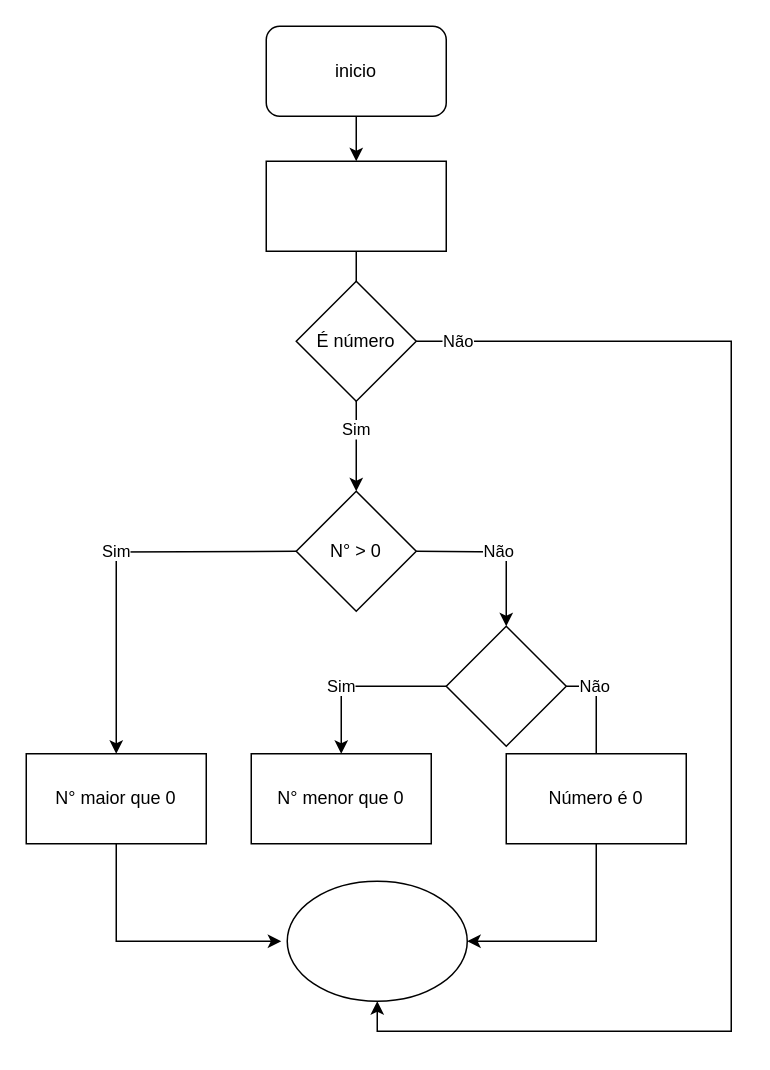
This 770x1070 diagram has some shape labels left out. The shapes that lost their labels are listed below. From the top down, each one's centre as x and y in pixels, then its label:
At [355,205]: "Entrada".
At [505,685]: "N° < 0".
At [376,940]: "Fim".
